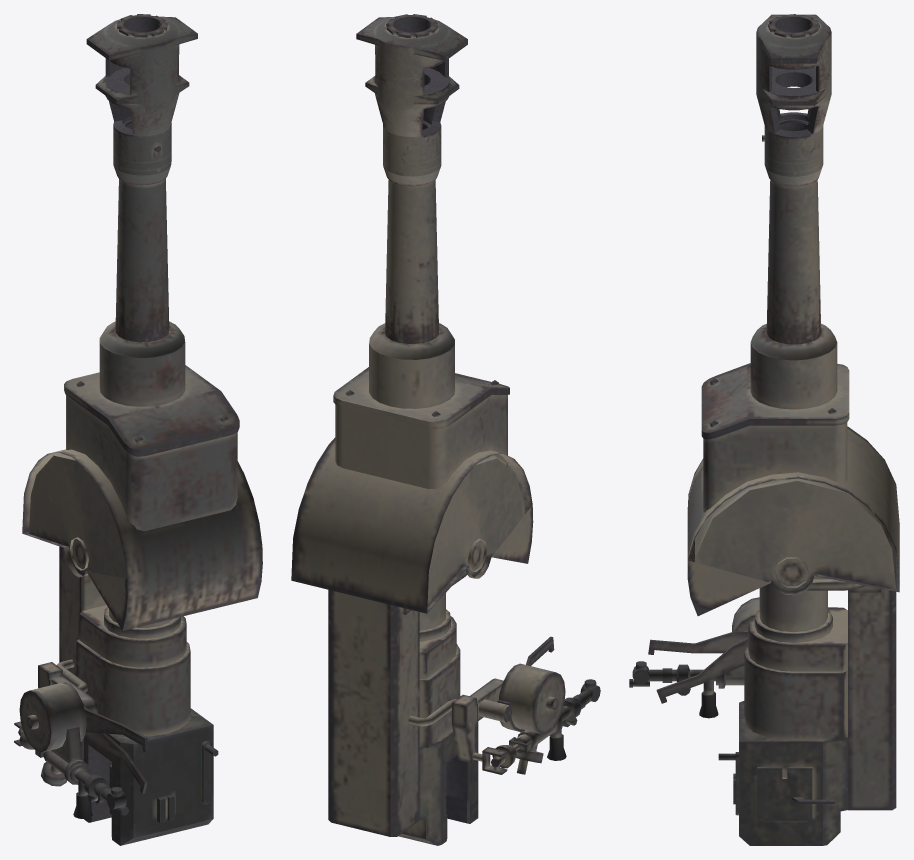
The model's file is Gun_01.glb.
3 views of the same model, side by side, from view 1: azimuth 30°, elevation 25°; view 2: azimuth 150°, elevation 25°; view 3: azimuth 270°, elevation 25° (orthographic).
Visible parts, largest first — view 1: set_0_group_0; view 2: set_0_group_0; view 3: set_0_group_0.
Boxes of the visible parts, <box> form: set_0_group_0: <box>14,14,262,845</box>; set_0_group_0: <box>291,14,600,845</box>; set_0_group_0: <box>629,14,899,845</box>.
Size of the model in its own units: 0.7124 by 2.77 by 0.85.
1 material, 1 textured.
